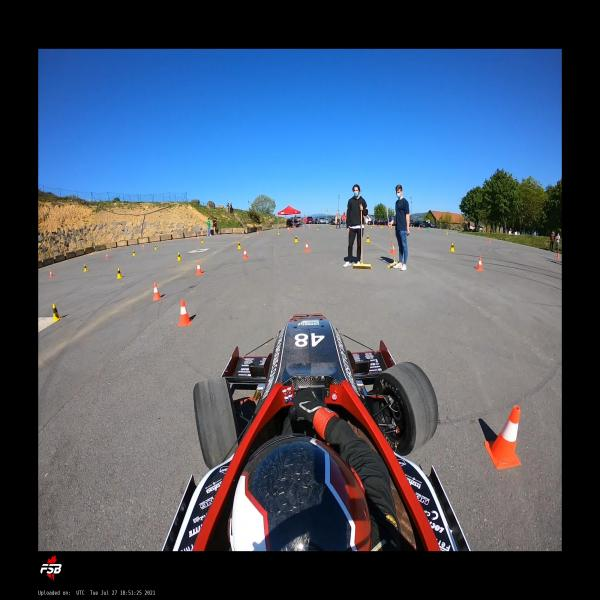orange_cone: (484, 406, 521, 469), (178, 299, 192, 326), (152, 282, 163, 301), (195, 261, 204, 275), (476, 257, 483, 271), (390, 243, 396, 254), (243, 248, 248, 259), (305, 242, 310, 252), (50, 270, 53, 277), (142, 244, 145, 249), (106, 252, 108, 258), (257, 231, 259, 235), (198, 236, 199, 241)
unknown_cone: (558, 252, 560, 258), (489, 239, 490, 241)
yellow_cone: (51, 303, 62, 321), (116, 268, 122, 279), (176, 252, 182, 261), (450, 242, 455, 252), (293, 235, 299, 242), (365, 235, 370, 242), (84, 264, 88, 272), (237, 241, 241, 249), (132, 250, 136, 256), (154, 245, 157, 250), (201, 238, 204, 243), (278, 230, 280, 235), (330, 225, 332, 229), (317, 227, 319, 230), (380, 225, 382, 228), (447, 230, 448, 235), (382, 225, 384, 227), (391, 225, 392, 228), (371, 226, 372, 228)
